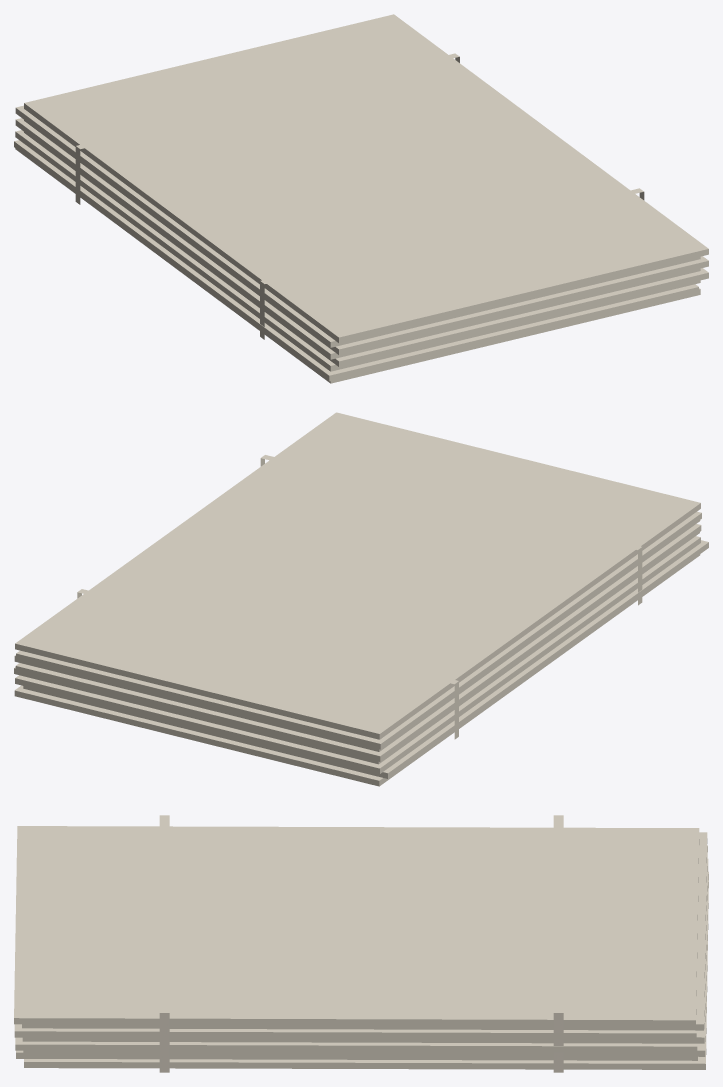
Rendered from Kit_RecordsCarton_FlatBundle.fbx.
3 views of the same model, one above another, from view 1: azimuth 30°, elevation 25°; view 2: azimuth 150°, elevation 25°; view 3: azimuth 270°, elevation 25° (orthographic). The views are drawn at different scales.
Parts seen in each view (by area): view 1: Kit_RecordsCarton_FlatBundle_LOD0; view 2: Kit_RecordsCarton_FlatBundle_LOD0; view 3: Kit_RecordsCarton_FlatBundle_LOD0.
Boxes of the visible parts, x1,y1,x2,y2 form: Kit_RecordsCarton_FlatBundle_LOD0: [14, 14, 708, 383]; Kit_RecordsCarton_FlatBundle_LOD0: [14, 412, 708, 786]; Kit_RecordsCarton_FlatBundle_LOD0: [14, 815, 708, 1072].
Size of what is drawn, in the model's own units: 0.6218 by 0.087 by 0.9172.
